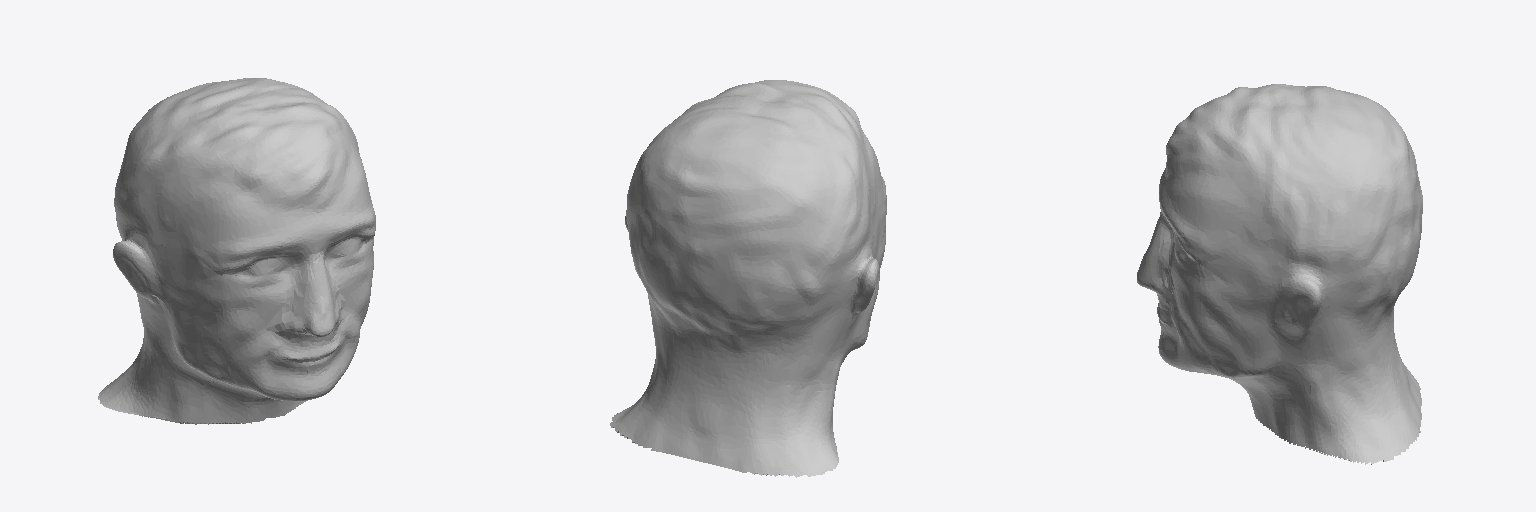
Rendered from andy.obj.
3 renders of one model, left to right at view 1: azimuth 30°, elevation 25°; view 2: azimuth 150°, elevation 25°; view 3: azimuth 270°, elevation 25°, orthographic.
Size of the model in its own units: 14.62 by 17.32 by 14.54.